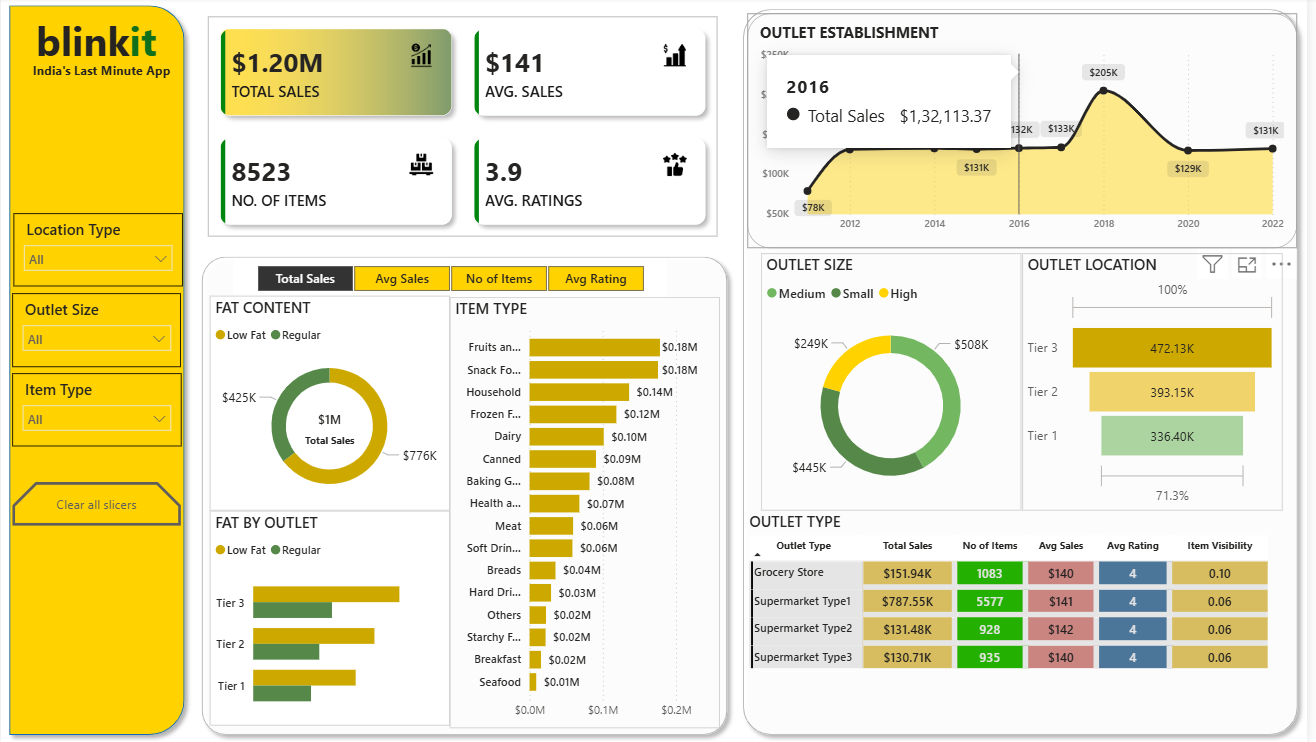

The dashboard page shown, as its layout file describes it:
{"tool":"powerbi","page":{"name":"Page 1","canvas":[1400,800],"ordinal":0},"visuals":[{"type":"shape","box":[786.9,4,612.6,796.3],"z":0},{"type":"textbox","box":[16.1,12.1,172,67.9],"z":1000,"group":"g1"},{"type":"shape","box":[205.8,269.5,581.4,530.8],"z":1000},{"type":"cardVisual","fields":{"Data":["BlinkIT Grocery Data.Total Sales","BlinkIT Grocery Data.Avg Sales","BlinkIT Grocery Data.No of Items","BlinkIT Grocery Data.Avg Rating"]},"box":[205,3.8,581.2,270],"z":2000},{"type":"textbox","box":[26.2,65,162.2,32.2],"z":2000,"group":"g1"},{"type":"shape","box":[0,0,205.8,800.3],"z":3000},{"type":"slicer","fields":{"Values":["Metrics.Metrics"]},"box":[249.9,280.9,463.8,40.8],"z":4000},{"type":"donutChart","title":"FAT CONTENT","fields":{"Y":["BlinkIT Grocery Data.Total Sales"],"Category":["BlinkIT Grocery Data.Item Fat Content"]},"box":[223.9,320.4,257.4,230.6],"z":5000},{"type":"card","fields":{"Values":["BlinkIT Grocery Data.Total Sales"]},"box":[313.7,435.7,77.7,52.3],"z":6000},{"type":"group","id":"g1","title":"Group 1","box":[16.1,12.1,172.9,84.5],"z":7000},{"type":"clusteredBarChart","title":"FAT BY OUTLET","fields":{"Y":["BlinkIT Grocery Data.Total Sales"],"Category":["BlinkIT Grocery Data.Outlet Location Type"],"Series":["BlinkIT Grocery Data.Item Fat Content"]},"box":[223.9,550.9,257.4,230.6],"z":8000},{"type":"barChart","title":"ITEM TYPE","fields":{"Y":["BlinkIT Grocery Data.Total Sales"],"Category":["BlinkIT Grocery Data.Item Type"]},"box":[481.2,321.7,289.5,462.5],"z":9000},{"type":"lineChart","title":"OUTLET ESTABLISHMENT","fields":{"Y":["BlinkIT Grocery Data.Total Sales"],"Category":["BlinkIT Grocery Data.Outlet Establishment Year"]},"box":[800.3,17.4,589.8,252],"z":10000},{"type":"donutChart","title":"OUTLET SIZE","fields":{"Y":["BlinkIT Grocery Data.Total Sales"],"Category":["BlinkIT Grocery Data.Outlet Size"]},"box":[815,274.8,278.8,276.1],"z":11000},{"type":"funnel","title":"OUTLET LOCATION","fields":{"Y":["Sum(BlinkIT Grocery Data.Sales)"],"Category":["BlinkIT Grocery Data.Outlet Location Type"]},"box":[1095.2,274.8,278.8,276.1],"z":12000},{"type":"pivotTable","title":"OUTLET TYPE","fields":{"Values":["BlinkIT Grocery Data.Total Sales","BlinkIT Grocery Data.No of Items","BlinkIT Grocery Data.Avg Sales","BlinkIT Grocery Data.Avg Rating","Avg(BlinkIT Grocery Data.Item Visibility)"],"Rows":["BlinkIT Grocery Data.Outlet Type"]},"box":[797.6,550.9,592.5,237.3],"z":13000},{"type":"slicer","fields":{"Values":["BlinkIT Grocery Data.Outlet Location Type"]},"box":[12.9,231.4,181.4,78.6],"z":14000},{"type":"slicer","fields":{"Values":["BlinkIT Grocery Data.Outlet Size"]},"box":[12.1,317.7,181,79.1],"z":15000},{"type":"slicer","fields":{"Values":["BlinkIT Grocery Data.Item Type"]},"box":[11.4,402.9,181.4,78.6],"z":16000},{"type":"actionButton","box":[12.1,520.1,181,46.9],"z":17000}]}

Visuals, with their boxes in screenshot pixels (x1, y1, x2, y2), scaled from the page's 1400x800 canvas onto the 1316x742 screenshot:
shape: (x1=740, y1=4, x2=1315, y2=741)
textbox: (x1=15, y1=11, x2=177, y2=74)
shape: (x1=193, y1=250, x2=740, y2=741)
cardVisual - BlinkIT Grocery Data.Total Sales x BlinkIT Grocery Data.Avg Sales: (x1=193, y1=4, x2=739, y2=254)
textbox: (x1=25, y1=60, x2=177, y2=90)
shape: (x1=0, y1=0, x2=193, y2=741)
slicer - Metrics.Metrics: (x1=235, y1=261, x2=671, y2=298)
"FAT CONTENT" donutChart: (x1=210, y1=297, x2=452, y2=511)
card - BlinkIT Grocery Data.Total Sales: (x1=295, y1=404, x2=368, y2=453)
"Group 1" group: (x1=15, y1=11, x2=178, y2=90)
"FAT BY OUTLET" clusteredBarChart: (x1=210, y1=511, x2=452, y2=725)
"ITEM TYPE" barChart: (x1=452, y1=298, x2=724, y2=727)
"OUTLET ESTABLISHMENT" lineChart: (x1=752, y1=16, x2=1307, y2=250)
"OUTLET SIZE" donutChart: (x1=766, y1=255, x2=1028, y2=511)
"OUTLET LOCATION" funnel: (x1=1029, y1=255, x2=1292, y2=511)
"OUTLET TYPE" pivotTable: (x1=750, y1=511, x2=1307, y2=731)
slicer - BlinkIT Grocery Data.Outlet Location Type: (x1=12, y1=215, x2=183, y2=288)
slicer - BlinkIT Grocery Data.Outlet Size: (x1=11, y1=295, x2=182, y2=368)
slicer - BlinkIT Grocery Data.Item Type: (x1=11, y1=374, x2=181, y2=447)
actionButton: (x1=11, y1=482, x2=182, y2=526)
